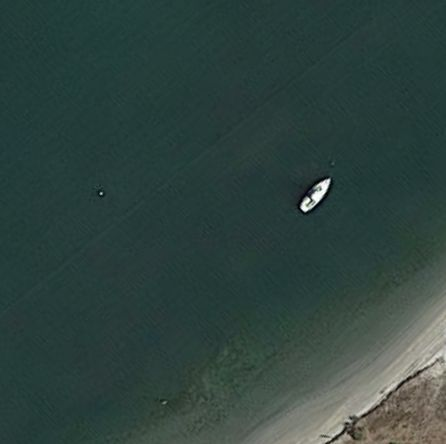boat: (298, 176, 333, 215)
